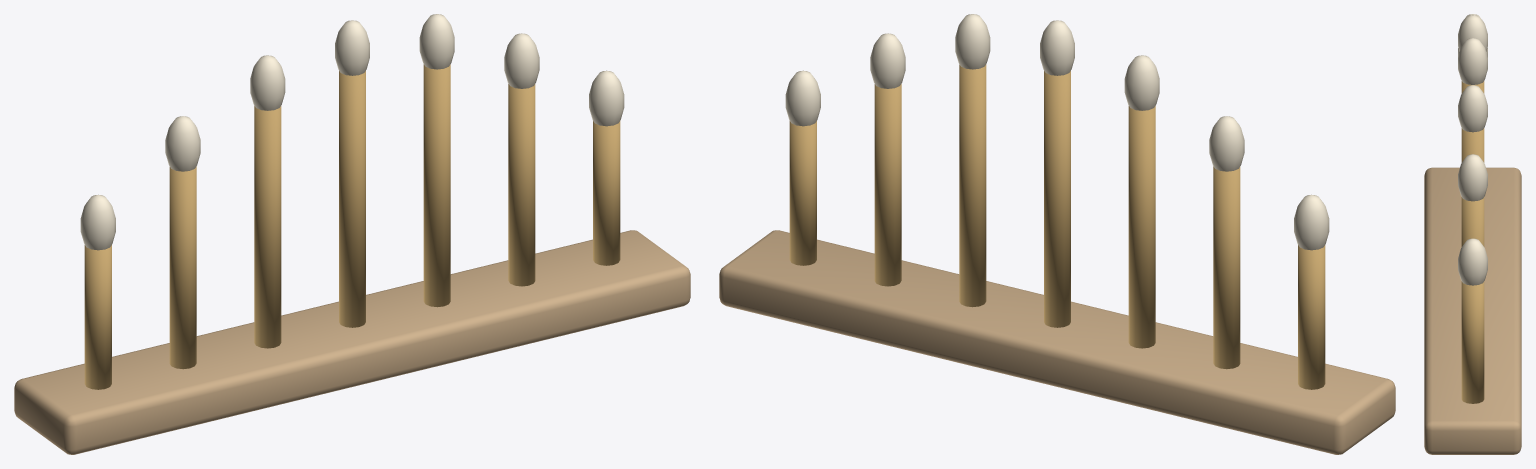
The model's file is window_arch.glb.
The picture shows the model from 3 angles, left to right: view 1: azimuth 30°, elevation 25°; view 2: azimuth 150°, elevation 25°; view 3: azimuth 270°, elevation 25°; orthographic projection. The views are drawn at different scales.
Visible parts, largest first — view 1: window_arch__body, window_arch__accent, window_arch__bulb0; view 2: window_arch__body, window_arch__accent, window_arch__bulb0; view 3: window_arch__body, window_arch__bulb0, window_arch__accent.
Part boxes in pixels (box(x1,y1,x2,y2)): window_arch__body: box(14, 230, 690, 454); window_arch__accent: box(84, 64, 620, 389); window_arch__bulb0: box(80, 14, 624, 250); window_arch__body: box(719, 230, 1395, 454); window_arch__accent: box(789, 64, 1325, 389); window_arch__bulb0: box(785, 14, 1329, 250); window_arch__body: box(1424, 167, 1521, 454); window_arch__bulb0: box(1458, 14, 1487, 285); window_arch__accent: box(1461, 81, 1484, 403).
Size of the model in its own units: 0.48 by 0.2505 by 0.076.
